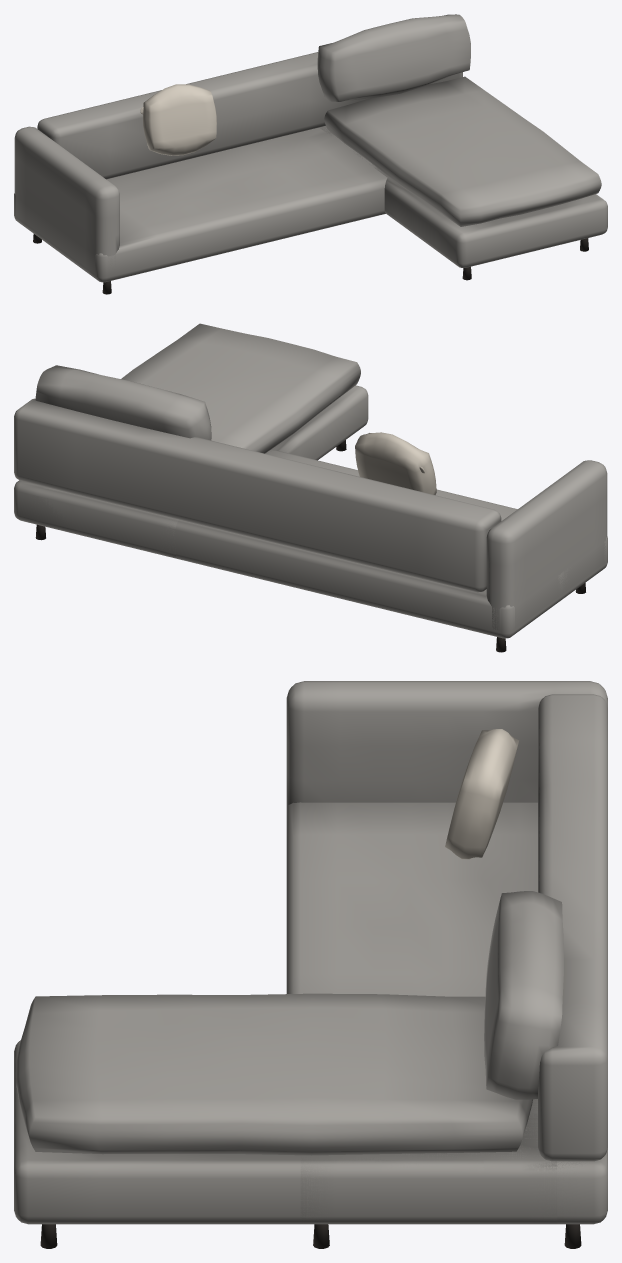
Rendered from canape_angle.glb.
The picture shows the model from 3 angles, top to bottom: view 1: azimuth 30°, elevation 25°; view 2: azimuth 150°, elevation 25°; view 3: azimuth 270°, elevation 25°; orthographic projection. The views are drawn at different scales.
Parts seen in each view (by area): view 1: socle, assises, dossiers, coussins, pieds; view 2: socle, assises, dossiers, coussins, pieds; view 3: socle, assises, dossiers, coussins, pieds.
Part boxes in pixels (bbox=[...]): socle: bbox=[14, 52, 607, 282]; assises: bbox=[324, 76, 601, 226]; dossiers: bbox=[317, 14, 470, 101]; coussins: bbox=[140, 84, 216, 155]; pieds: bbox=[33, 234, 588, 294]; socle: bbox=[14, 385, 607, 638]; assises: bbox=[121, 323, 360, 453]; dossiers: bbox=[35, 365, 211, 440]; coussins: bbox=[355, 432, 436, 494]; pieds: bbox=[35, 440, 585, 652]; socle: bbox=[14, 681, 607, 1224]; assises: bbox=[16, 993, 532, 1155]; dossiers: bbox=[484, 891, 563, 1099]; coussins: bbox=[445, 729, 518, 859]; pieds: bbox=[40, 1224, 581, 1248].
Bounding box in the file's own units: 2.6 × 0.8197 × 1.7.
